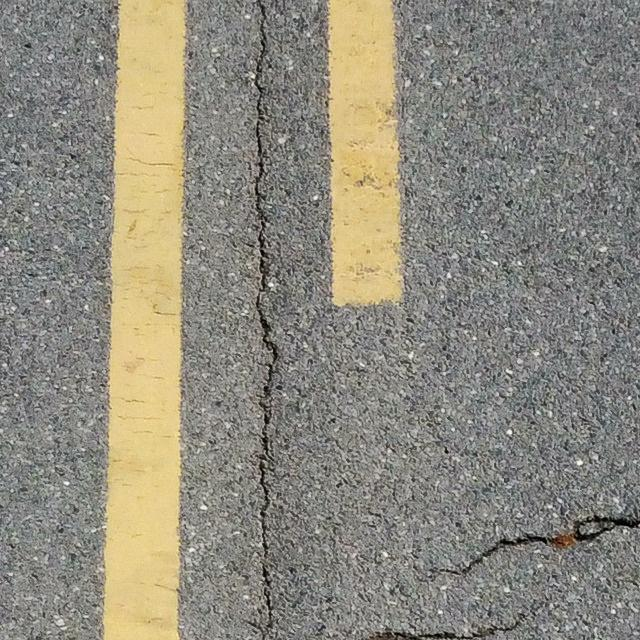LongitudinalCrack: (239, 1, 280, 639)
TransverseCrack: (434, 513, 640, 583), (365, 614, 519, 638)
